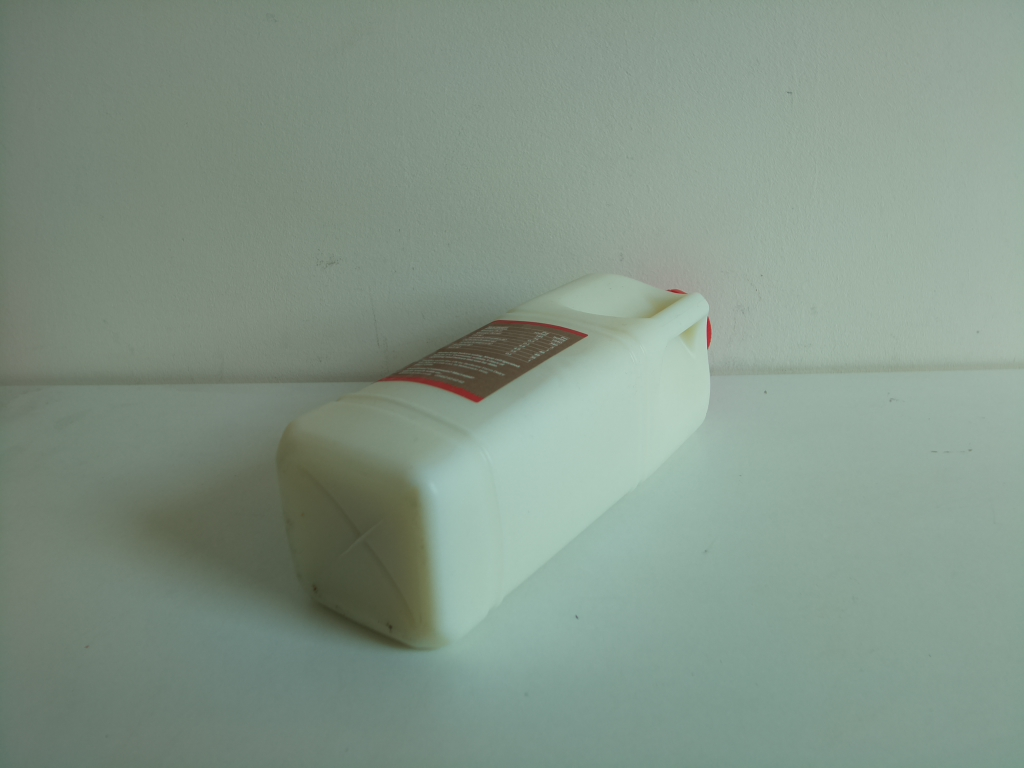milk: (273, 268, 719, 659)
